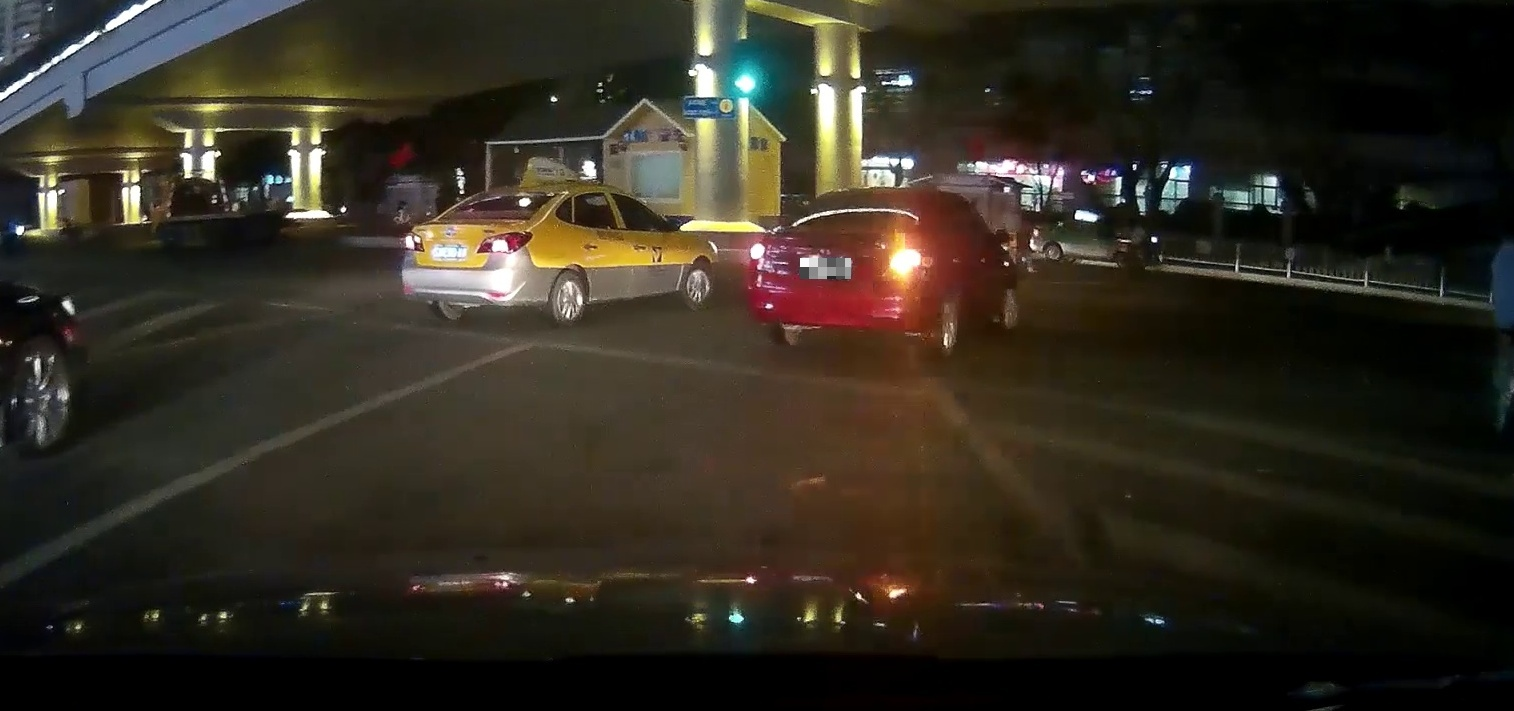L_light: (748, 240, 776, 273), (404, 230, 424, 252)
R_light: (476, 230, 534, 254), (881, 250, 922, 282)
T_light: (860, 197, 877, 204), (507, 193, 523, 197)
night-no: (401, 182, 557, 327)
night-right: (747, 186, 929, 359)
plate_1: (800, 258, 851, 279)
